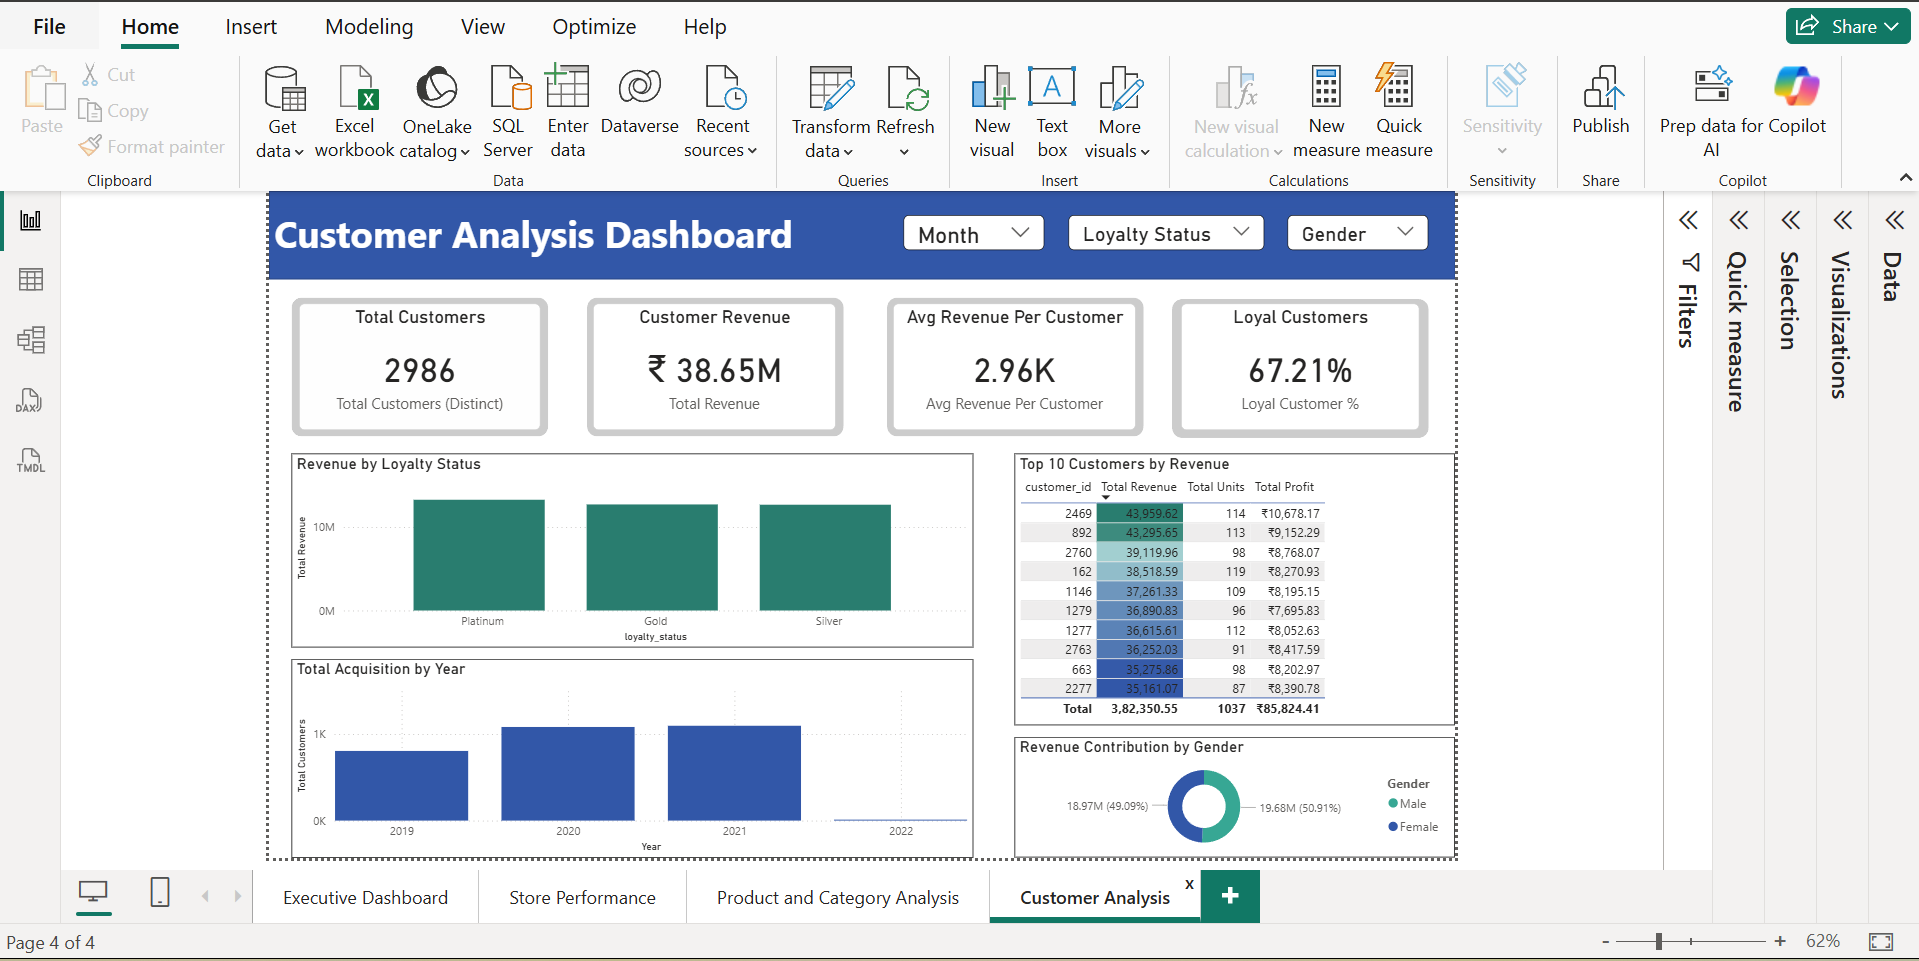

Layout of this report page (visuals, bound fields, positions):
{"tool":"powerbi","page":{"name":"Customer Analysis","canvas":[1280,720],"ordinal":3},"visuals":[{"type":"shape","box":[0,0,1280.8,95.5],"z":0},{"type":"textbox","title":"Customer Analysis Dashboard","box":[0,17.8,1280.8,58.3],"z":1000},{"type":"slicer","fields":{"Values":["Date.YearMonth"]},"box":[684.5,26.4,151.8,37.9],"z":2000},{"type":"slicer","fields":{"Values":["dim_customers.loyalty_status"]},"box":[862.7,26.4,211.1,37.9],"z":3000},{"type":"slicer","fields":{"Values":["dim_customers.gender"]},"box":[1100.2,26.4,151.8,37.9],"z":4000},{"type":"shape","box":[24.7,115.5,277.1,150.1],"z":5000},{"type":"shape","box":[974.8,117.1,277.1,150.1],"z":6000},{"type":"shape","box":[666.4,115.5,277.1,150.1],"z":7000},{"type":"shape","box":[343.1,115.5,277.1,150.1],"z":8000},{"type":"card","title":"Total Customers","fields":{"Values":["Date.Total Customers (Distinct)"]},"box":[33,122.1,260.6,136.9],"z":9000},{"type":"card","title":"Loyal Customers","fields":{"Values":["fact_sales.Loyal Customer %"]},"box":[984.7,122.1,257.3,136.9],"z":10000},{"type":"card","title":"Avg Revenue Per Customer","fields":{"Values":["Date.Avg Revenue Per Customer"]},"box":[673,122.1,262.3,136.9],"z":11000},{"type":"card","title":"Customer Revenue","fields":{"Values":["fact_sales.Total Revenue"]},"box":[349.7,122.1,262.3,136.9],"z":12000},{"type":"clusteredColumnChart","title":"Revenue by Loyalty Status","fields":{"Category":["dim_customers.loyalty_status"],"Y":["fact_sales.Total Revenue"]},"box":[24.7,283.7,735.7,209.5],"z":14000},{"type":"donutChart","title":"Revenue Contribution by Gender","fields":{"Category":["dim_customers.gender"],"Y":["fact_sales.Total Revenue"]},"box":[804.9,588.9,475.1,130.3],"z":15000},{"type":"clusteredColumnChart","title":"Total Acquisition by Year","fields":{"Category":["dim_customers.join_date.Variation.Date Hierarchy.Year"],"Y":["fact_sales.Total Customers"]},"box":[24.7,504.7,735.7,214.4],"z":16000},{"type":"tableEx","title":"Top 10 Customers by Revenue","fields":{"Values":["dim_customers.customer_id","fact_sales.Total Revenue","fact_sales.Total Units","fact_sales.Total Profit"]},"box":[804.9,283.7,475.1,293.6],"z":17000}]}

Visuals, with their boxes on the page's 1280x720 design canvas (x1, y1, x2, y2). These are canvas units, not pixel positions in the 1919x961 screenshot, which may show the page scaled, cropped or inside an application window:
shape: box=[0, 0, 1281, 96]
"Customer Analysis Dashboard" textbox: box=[0, 18, 1281, 76]
slicer - Date.YearMonth: box=[684, 26, 836, 64]
slicer - dim_customers.loyalty_status: box=[863, 26, 1074, 64]
slicer - dim_customers.gender: box=[1100, 26, 1252, 64]
shape: box=[25, 116, 302, 266]
shape: box=[975, 117, 1252, 267]
shape: box=[666, 116, 944, 266]
shape: box=[343, 116, 620, 266]
"Total Customers" card: box=[33, 122, 294, 259]
"Loyal Customers" card: box=[985, 122, 1242, 259]
"Avg Revenue Per Customer" card: box=[673, 122, 935, 259]
"Customer Revenue" card: box=[350, 122, 612, 259]
"Revenue by Loyalty Status" clusteredColumnChart: box=[25, 284, 760, 493]
"Revenue Contribution by Gender" donutChart: box=[805, 589, 1280, 719]
"Total Acquisition by Year" clusteredColumnChart: box=[25, 505, 760, 719]
"Top 10 Customers by Revenue" tableEx: box=[805, 284, 1280, 577]
